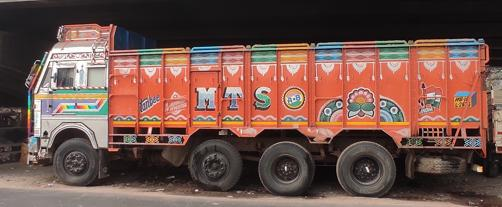Truck: (18, 20, 493, 197)
